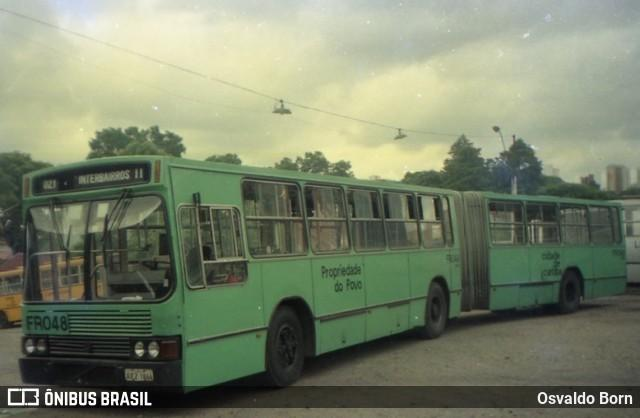INTERBAIRROS II: (76, 166, 145, 189)
